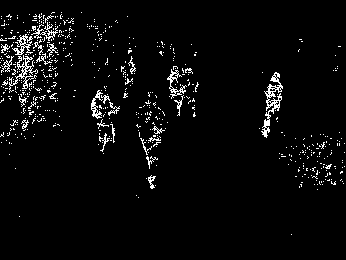person: (134, 89, 169, 192), (90, 88, 117, 153), (262, 70, 282, 139), (120, 54, 139, 100), (183, 63, 198, 119), (169, 66, 185, 117)
